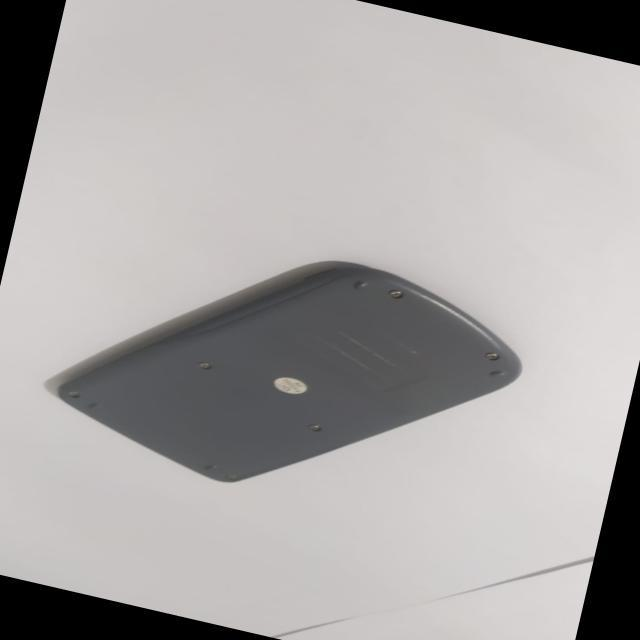Calculator: (39, 199, 534, 546)
